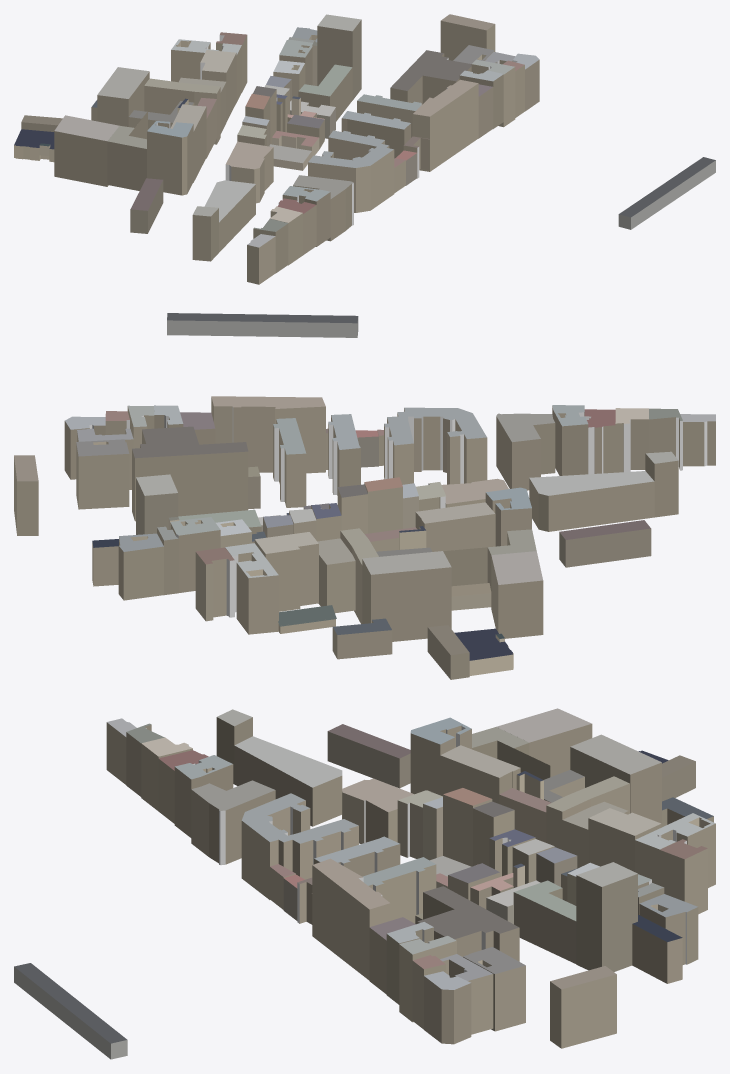
3 renders of one model, top to bottom at view 1: azimuth 30°, elevation 25°; view 2: azimuth 150°, elevation 25°; view 3: azimuth 270°, elevation 25°, orthographic. The views are drawn at different scales.
Visible parts, largest first — view 1: tuile; view 2: tuile; view 3: tuile.
Boxes of the visible parts, <box> form: tuile: <box>14,14,715,284</box>; tuile: <box>14,313,715,679</box>; tuile: <box>14,708,715,1059</box>.
Size of the model in its own units: 296 by 39.81 by 281.
